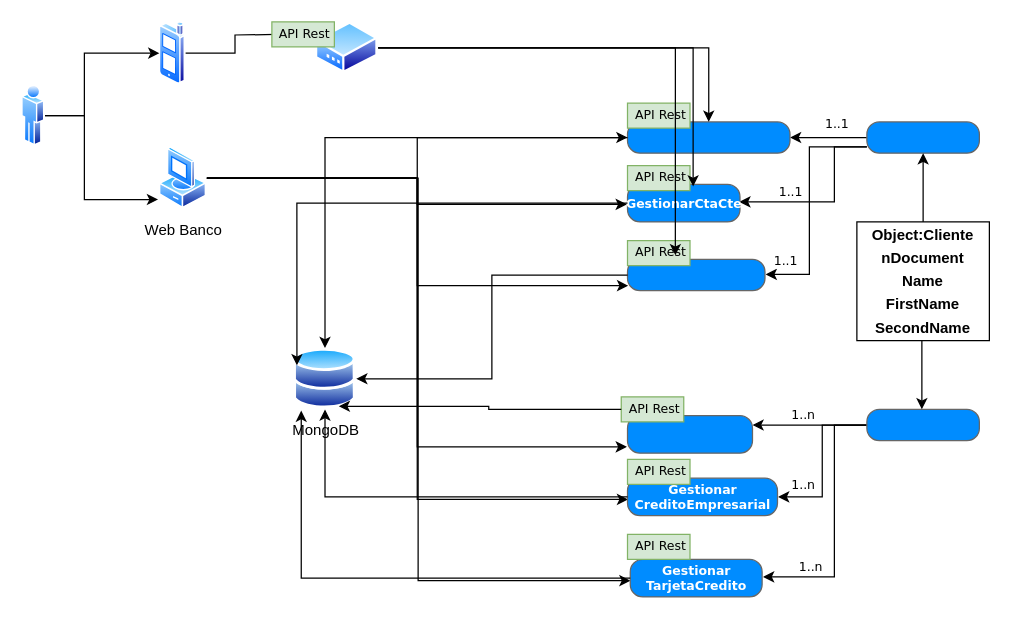
Image size: 1011x619. Some labels were removed from this diagram. Each missing label, with the centre of its shape:
API Gateway: (x=346, y=47)
Cliente Empresarial: (x=922, y=424)
Cliente Personal: (x=922, y=137)
Gestionar CreditoPersonal: (x=689, y=433)
GestionarCtaAhorro: (x=708, y=137)
GestionarPlazoFijo: (x=695, y=274)
Mobile: (x=172, y=52)
